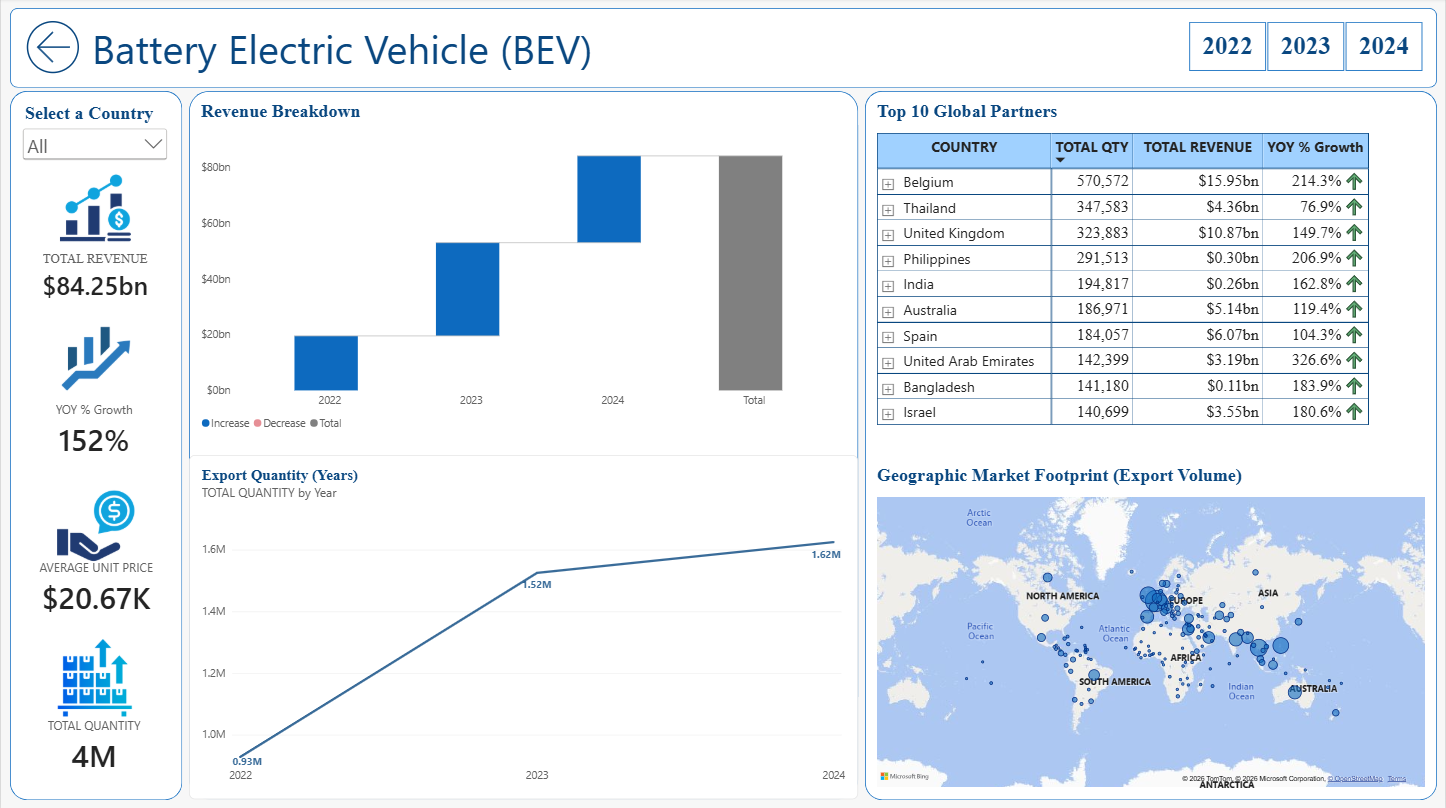

This screenshot's page, from the dashboard's own definition file:
{"tool":"powerbi","page":{"name":"Detailed View","canvas":[1920,1080],"ordinal":1},"visuals":[{"type":"shape","box":[11.6,124.2,229,943.2],"z":0},{"type":"shape","box":[11.6,12.9,1898,106.1],"z":1000},{"type":"shape","box":[1148.9,124.2,760.8,943.2],"z":2000},{"type":"actionButton","box":[0,5.2,138.6,119.6],"z":3000},{"type":"cardVisual","title":"Total Revenue","fields":{"Data":["Mesures.Total Revenue"]},"box":[25.9,219.9,200,200],"z":3000,"group":"g1"},{"type":"cardVisual","fields":{"Data":["Min(HS_Code_Dim.Sub Category)"]},"box":[104.8,12.9,1785.4,104.8],"z":4000},{"type":"shape","box":[249.7,124.2,890.1,941.9],"z":5000},{"type":"cardVisual","title":"Total Revenue","fields":{"Data":["Mesures.Average QTY"]},"box":[24.6,848.7,200,200],"z":5000,"group":"g3"},{"type":"map","title":"Geographic Market Footprint (Export Volume)","fields":{"Category":["Country_Dim.Country"],"Size":["Mesures.TOTAL QUANTITY"]},"box":[1148.9,608.1,760.8,458],"z":6000},{"type":"slicer","fields":{"Values":["Date_Dim.Year"]},"box":[1561.6,32.3,348,64.7],"z":7000},{"type":"pivotTable","title":"Top 10 Global Partners ","fields":{"Rows":["Country_Dim.Country","Date_Dim.Year"],"Values":["Mesures.TOTAL QUANTITY","Mesures.TOTAL REVENUE","Mesures.YOY % Growth"]},"box":[1148.9,124,741.7,483.6],"z":8000},{"type":"cardVisual","title":"Total Revenue","fields":{"Data":["Mesures.AVERAGE UNIT PRICE"]},"box":[27.2,638.1,200,200],"z":8000,"group":"g2"},{"type":"slicer","fields":{"Values":["Country_Dim.Country"]},"box":[24.6,139.7,201.8,80.2],"z":9000},{"type":"waterfallChart","title":"Revenue Breakdown","fields":{"Category":["Date_Dim.Year"],"Y":["Mesures.TOTAL REVENUE"]},"box":[249.7,124.2,890.1,472.2],"z":10000},{"type":"lineChart","title":"Export Quantity (Years)","fields":{"Y":["Mesures.TOTAL QUANTITY"],"Category":["Date_Dim.Year"]},"box":[249.7,608.1,890.1,458],"z":11000},{"type":"group","id":"g1","title":"Group 5","box":[25.9,219.9,200,200],"z":12000},{"type":"group","id":"g2","title":"Group 2","box":[27.2,638.1,200.5,201.8],"z":13000},{"type":"group","id":"g3","title":"Group 3","box":[24.6,848.7,200.5,200.5],"z":14000},{"type":"image","box":[59,229.8,134.1,104],"z":15000,"group":"g1"},{"type":"group","id":"g4","title":"Group 4","box":[24.6,428.8,199.2,200.5],"z":15000},{"type":"image","box":[59.2,428.8,134.1,103],"z":16000,"group":"g4"},{"type":"image","box":[58.5,852.1,134,103],"z":17000,"group":"g3"},{"type":"image","box":[58.5,650.6,134,103],"z":18000,"group":"g2"},{"type":"cardVisual","title":"Total Revenue","fields":{"Data":["Mesures.YOY %"]},"box":[24.6,428.9,200,200],"z":20500,"group":"g4"}]}

Visuals, with their boxes in screenshot pixels (x1, y1, x2, y2), scaled from the page's 1920x1080 canvas onto the 1446x808 screenshot:
shape: bbox(9, 93, 181, 799)
shape: bbox(9, 10, 1438, 89)
shape: bbox(865, 93, 1438, 799)
actionButton: bbox(0, 4, 104, 93)
"Total Revenue" cardVisual: bbox(20, 165, 170, 314)
cardVisual - Min(HS_Code_Dim.Sub Category): bbox(79, 10, 1424, 88)
shape: bbox(188, 93, 858, 798)
"Total Revenue" cardVisual: bbox(19, 635, 169, 785)
"Geographic Market Footprint (Export Volume)" map: bbox(865, 455, 1438, 798)
slicer - Date_Dim.Year: bbox(1176, 24, 1438, 73)
"Top 10 Global Partners " pivotTable: bbox(865, 93, 1424, 455)
"Total Revenue" cardVisual: bbox(20, 477, 171, 627)
slicer - Country_Dim.Country: bbox(19, 105, 171, 165)
"Revenue Breakdown" waterfallChart: bbox(188, 93, 858, 446)
"Export Quantity (Years)" lineChart: bbox(188, 455, 858, 798)
"Group 5" group: bbox(20, 165, 170, 314)
"Group 2" group: bbox(20, 477, 171, 628)
"Group 3" group: bbox(19, 635, 170, 785)
image: bbox(44, 172, 145, 250)
"Group 4" group: bbox(19, 321, 169, 471)
image: bbox(45, 321, 146, 398)
image: bbox(44, 637, 145, 715)
image: bbox(44, 487, 145, 564)
"Total Revenue" cardVisual: bbox(19, 321, 169, 471)
